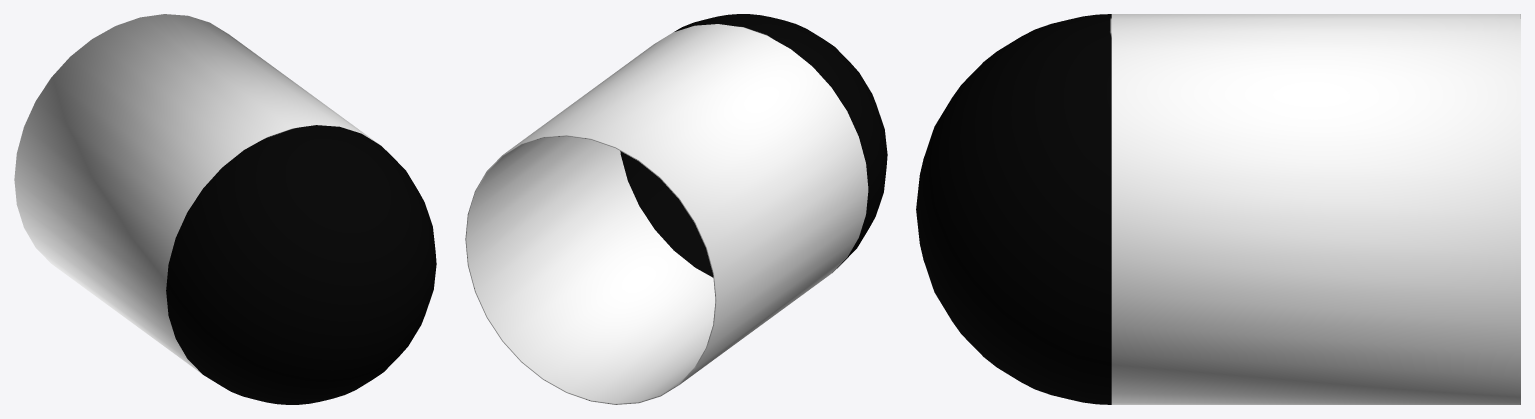
Rendered from lightProjectiles.fbx.
3 renders of one model, left to right at view 1: azimuth 30°, elevation 25°; view 2: azimuth 150°, elevation 25°; view 3: azimuth 270°, elevation 25°, orthographic. The views are drawn at different scales.
Parts seen in each view (by area): view 1: LightProjectile; view 2: LightProjectile; view 3: LightProjectile.
Boxes of the visible parts, x1,y1,x2,y2 form: LightProjectile: (14,14,436,404); LightProjectile: (465,14,887,404); LightProjectile: (916,14,1520,404).
Bounding box in the file's own units: 200 × 200 × 309.
